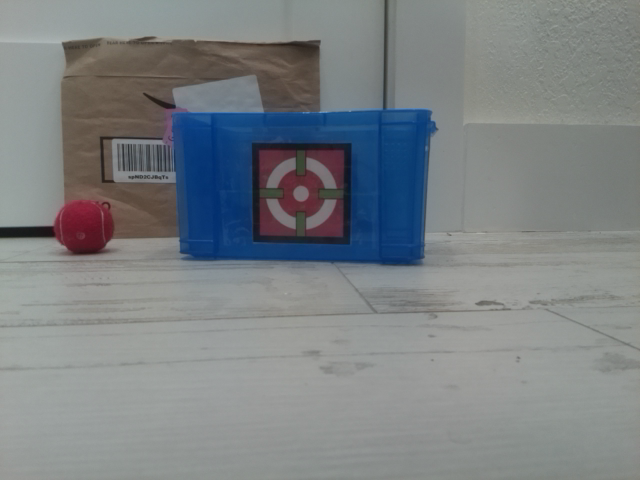drop-bin: (251, 141, 352, 244)
red-ball: (53, 198, 115, 255)
